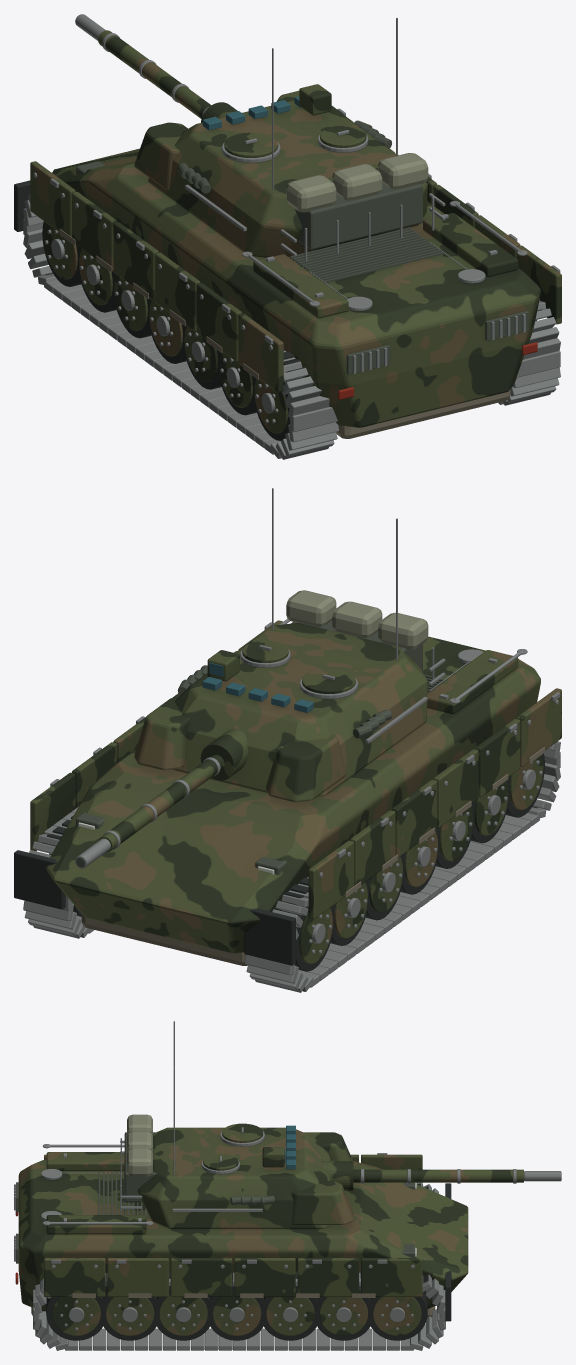
The model's file is mbt-lod0.glb.
3 renders of one model, top to bottom at view 1: azimuth 30°, elevation 25°; view 2: azimuth 150°, elevation 25°; view 3: azimuth 270°, elevation 25°, orthographic. The views are drawn at different scales.
Parts seen in each view (by area): view 1: Chassis NATO olive paint, Turret NATO olive paint, Tracks.L Worn track steel, Chassis Dark camouflage paint, Turret Dark camouflage paint, Turret Canvas stowage, Chassis Worn track steel, Tracks.R Worn track steel, Turret Worn track steel, Gun NATO olive paint, Chassis Dried lower hull mud, Road wheel (+9 smaller); view 2: Chassis NATO olive paint, Turret NATO olive paint, Tracks.L Worn track steel, Chassis Track rubber, Turret Canvas stowage, Gun NATO olive paint, Chassis Dried lower hull mud, Tracks.R Worn track steel, Turret Worn track steel, Chassis Worn track steel, Turret Dark camouflage paint, Turret Coated optical glass (+9 smaller); view 3: Chassis NATO olive paint, Turret NATO olive paint, Tracks.R Worn track steel, Gun NATO olive paint, Chassis Worn track steel, Turret Canvas stowage, Turret Worn track steel, Road wheel.013, Road wheel.010, Road wheel.011, Road wheel.009, Road wheel.012 (+15 smaller).
Part boxes in pixels (x1,y1,x2,y2): Chassis NATO olive paint: [30, 111, 561, 427]; Turret NATO olive paint: [134, 84, 427, 257]; Tracks.L Worn track steel: [23, 194, 338, 459]; Chassis Dark camouflage paint: [76, 161, 528, 374]; Turret Dark camouflage paint: [177, 120, 422, 249]; Turret Canvas stowage: [286, 153, 428, 212]; Chassis Worn track steel: [33, 108, 560, 373]; Tracks.R Worn track steel: [498, 299, 560, 405]; Turret Worn track steel: [185, 18, 445, 261]; Gun NATO olive paint: [98, 30, 237, 122]; Chassis Dried lower hull mud: [59, 229, 510, 438]; Road wheel: [254, 379, 288, 433]; Chassis NATO olive paint: [30, 620, 561, 953]; Turret NATO olive paint: [134, 623, 427, 802]; Tracks.L Worn track steel: [245, 741, 560, 992]; Chassis Track rubber: [14, 850, 295, 965]; Turret Canvas stowage: [286, 590, 428, 649]; Gun NATO olive paint: [98, 729, 248, 852]; Chassis Dried lower hull mud: [81, 747, 544, 965]; Tracks.R Worn track steel: [23, 806, 93, 938]; Turret Worn track steel: [240, 488, 445, 743]; Chassis Worn track steel: [50, 619, 560, 877]; Turret Dark camouflage paint: [177, 620, 422, 738]; Turret Coated optical glass: [202, 662, 313, 712]; Chassis NATO olive paint: [18, 1152, 468, 1311]; Turret NATO olive paint: [137, 1123, 353, 1228]; Tracks.R Worn track steel: [33, 1272, 445, 1350]; Gun NATO olive paint: [321, 1161, 523, 1190]; Chassis Worn track steel: [14, 1144, 414, 1268]; Turret Canvas stowage: [127, 1114, 152, 1176]; Turret Worn track steel: [120, 1021, 264, 1211]; Road wheel.013: [373, 1297, 421, 1335]; Road wheel.010: [212, 1292, 261, 1335]; Road wheel.011: [266, 1292, 314, 1335]; Road wheel.009: [159, 1295, 207, 1335]; Road wheel.012: [319, 1297, 367, 1335].
Size of the model in its own units: 4.1 by 4.58 by 8.82.
Materials: 9 (1 with a texture image).
